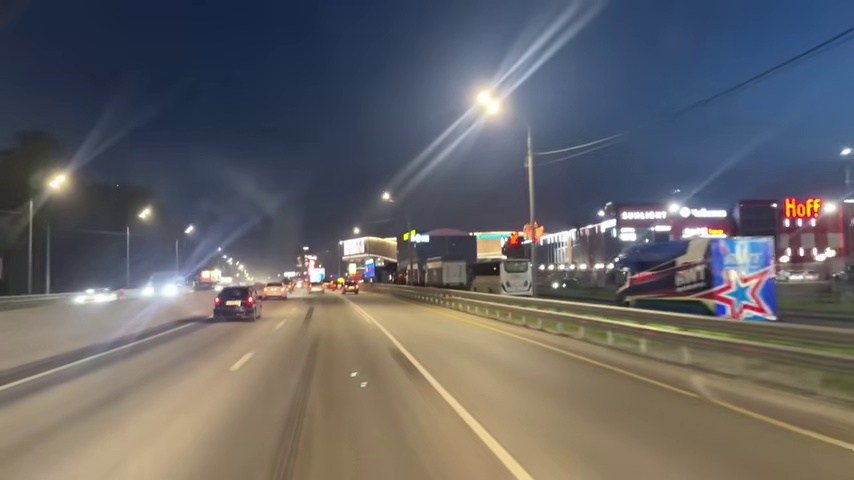acesa: (473, 88, 504, 120), (44, 170, 71, 196), (135, 203, 156, 224), (378, 189, 394, 205), (182, 222, 197, 238), (838, 146, 853, 159)
